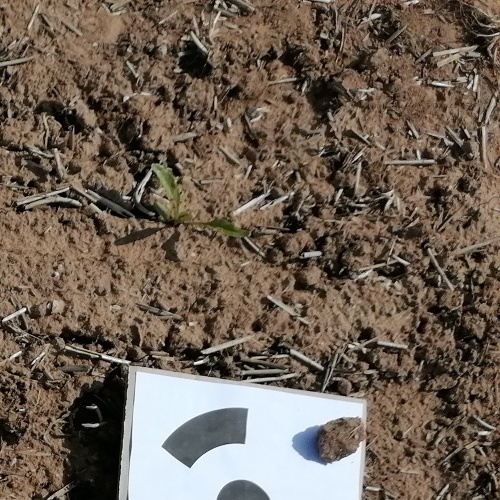beet: (149, 163, 253, 239)
